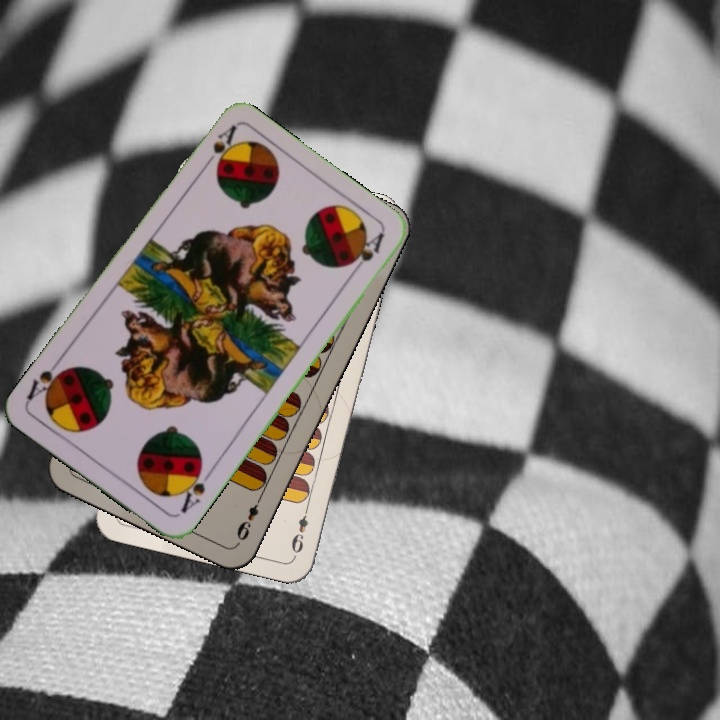E9: (232, 490, 266, 544), (287, 500, 312, 558)
SA: (197, 122, 239, 173), (176, 460, 208, 516)
